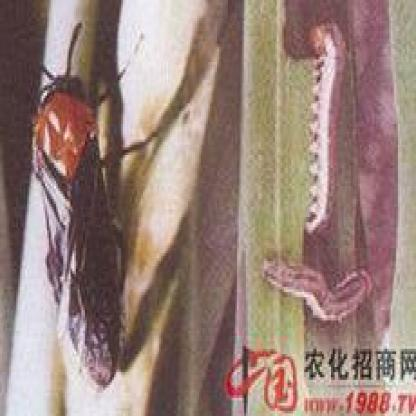sawfly: (14, 20, 178, 400), (300, 11, 352, 242), (258, 247, 379, 327)
